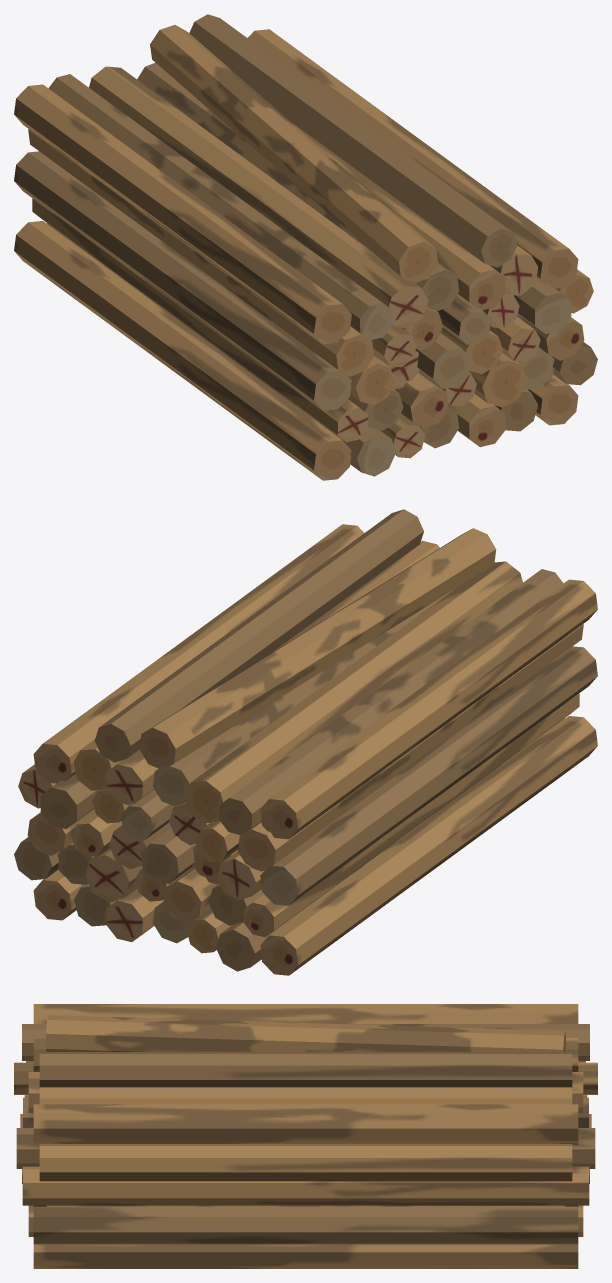
The model's file is SM_Prop_LogPile_Small_01.fbx.
The picture shows the model from 3 angles, top to bottom: view 1: azimuth 30°, elevation 25°; view 2: azimuth 150°, elevation 25°; view 3: azimuth 270°, elevation 25°; orthographic projection. The views are drawn at different scales.
Parts seen in each view (by area): view 1: SM_Prop_LogPile_Small_01; view 2: SM_Prop_LogPile_Small_01; view 3: SM_Prop_LogPile_Small_01.
Part boxes in pixels (x1,y1,x2,y2): SM_Prop_LogPile_Small_01: (14, 14, 597, 480); SM_Prop_LogPile_Small_01: (14, 509, 597, 975); SM_Prop_LogPile_Small_01: (14, 1004, 597, 1268).
Size of the model in its own units: 519 by 365 by 1018.
